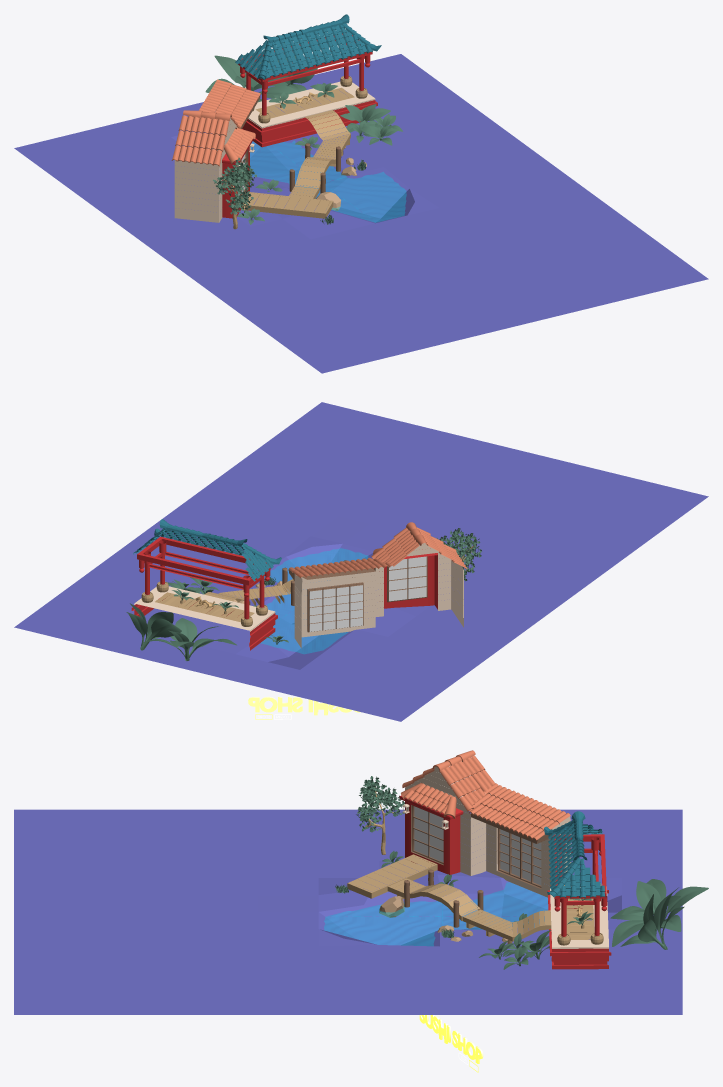
The model's file is Shop.glb.
3 renders of one model, top to bottom at view 1: azimuth 30°, elevation 25°; view 2: azimuth 150°, elevation 25°; view 3: azimuth 270°, elevation 25°, orthographic. The views are drawn at different scales.
Visible parts, largest first — view 1: Merged; view 2: Merged; view 3: Merged, Text.
Boxes of the visible parts, x1,y1,x2,y2 form: Merged: [14, 14, 708, 373]; Merged: [14, 402, 708, 721]; Merged: [14, 750, 708, 1014]; Text: [419, 1015, 481, 1063].
Size of what is drawn, in the model's own units: 26.48 by 14.61 by 37.92.
